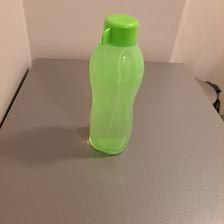bottle: (86, 13, 147, 154)
